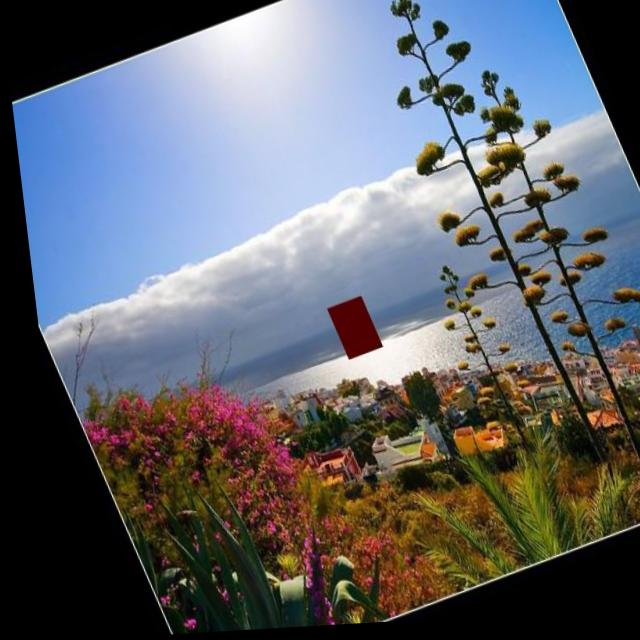RedSquare: (310, 291, 382, 372)
